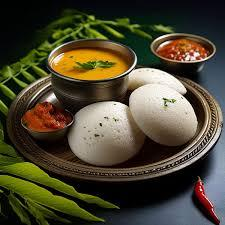idli: (71, 86, 195, 157), (137, 67, 179, 92)
sambhar: (59, 48, 130, 77)
